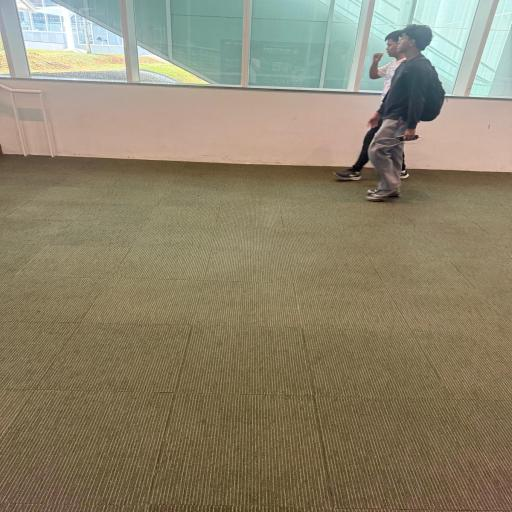person_left: (365, 24, 446, 202), (334, 29, 410, 181)
